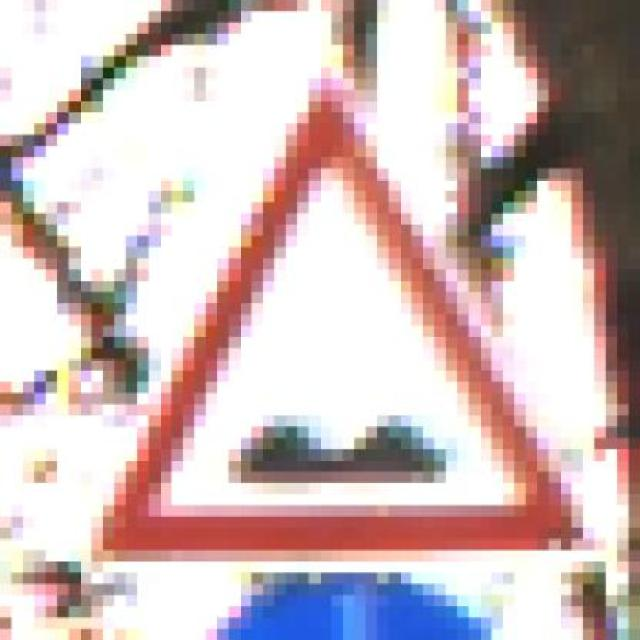Uneven Road: (91, 44, 583, 562)
